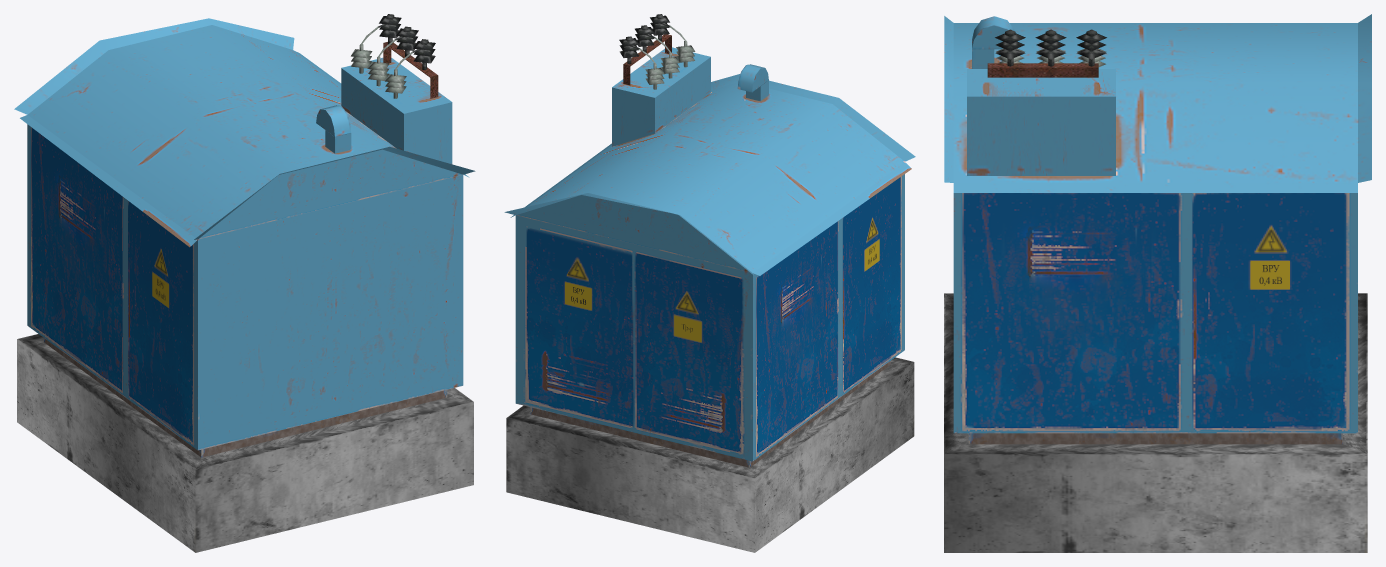
3 views of the same model, side by side, from view 1: azimuth 30°, elevation 25°; view 2: azimuth 150°, elevation 25°; view 3: azimuth 270°, elevation 25° (orthographic). The views are drawn at different scales.
Parts seen in each view (by area): view 1: T-Budka_3, addition_1; view 2: T-Budka_3, addition_1; view 3: T-Budka_3, addition_1.
Part boxes in pixels (x1,y1,x2,y2): T-Budka_3: (14,18,475,552); addition_1: (316,14,452,164); T-Budka_3: (504,74,915,552); addition_1: (612,14,768,146); T-Budka_3: (944,14,1371,552); addition_1: (967,16,1115,175).
Size of what is drawn, in the model's own units: 1.91 by 2.78 by 2.12.
Materials: 1 (1 with a texture image).
